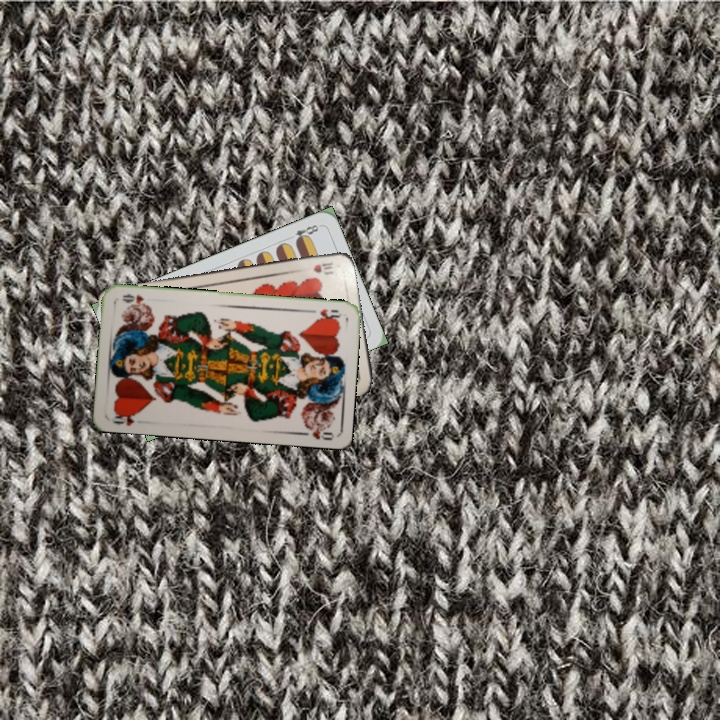E8: (291, 220, 323, 245)
H10: (309, 258, 336, 275)
HO: (304, 305, 344, 323), (109, 408, 140, 428)
